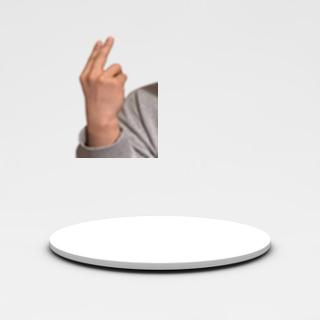DHAVE: (76, 32, 129, 124)
